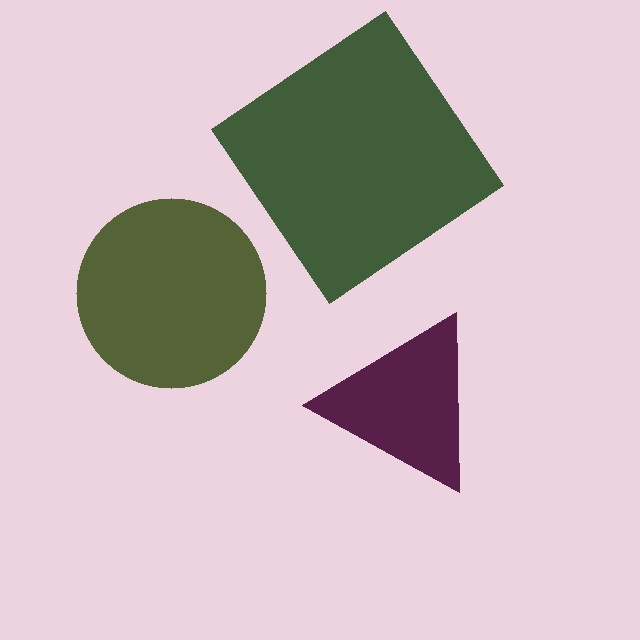circle: (76, 198, 267, 389)
square: (211, 10, 504, 303)
triangle: (301, 311, 459, 493)
